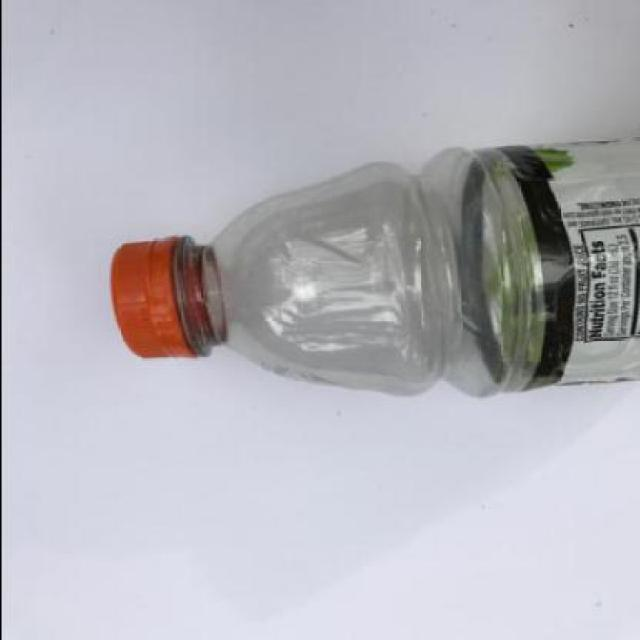PLASTIC: (110, 138, 638, 399), (454, 138, 638, 394), (109, 237, 202, 360)
